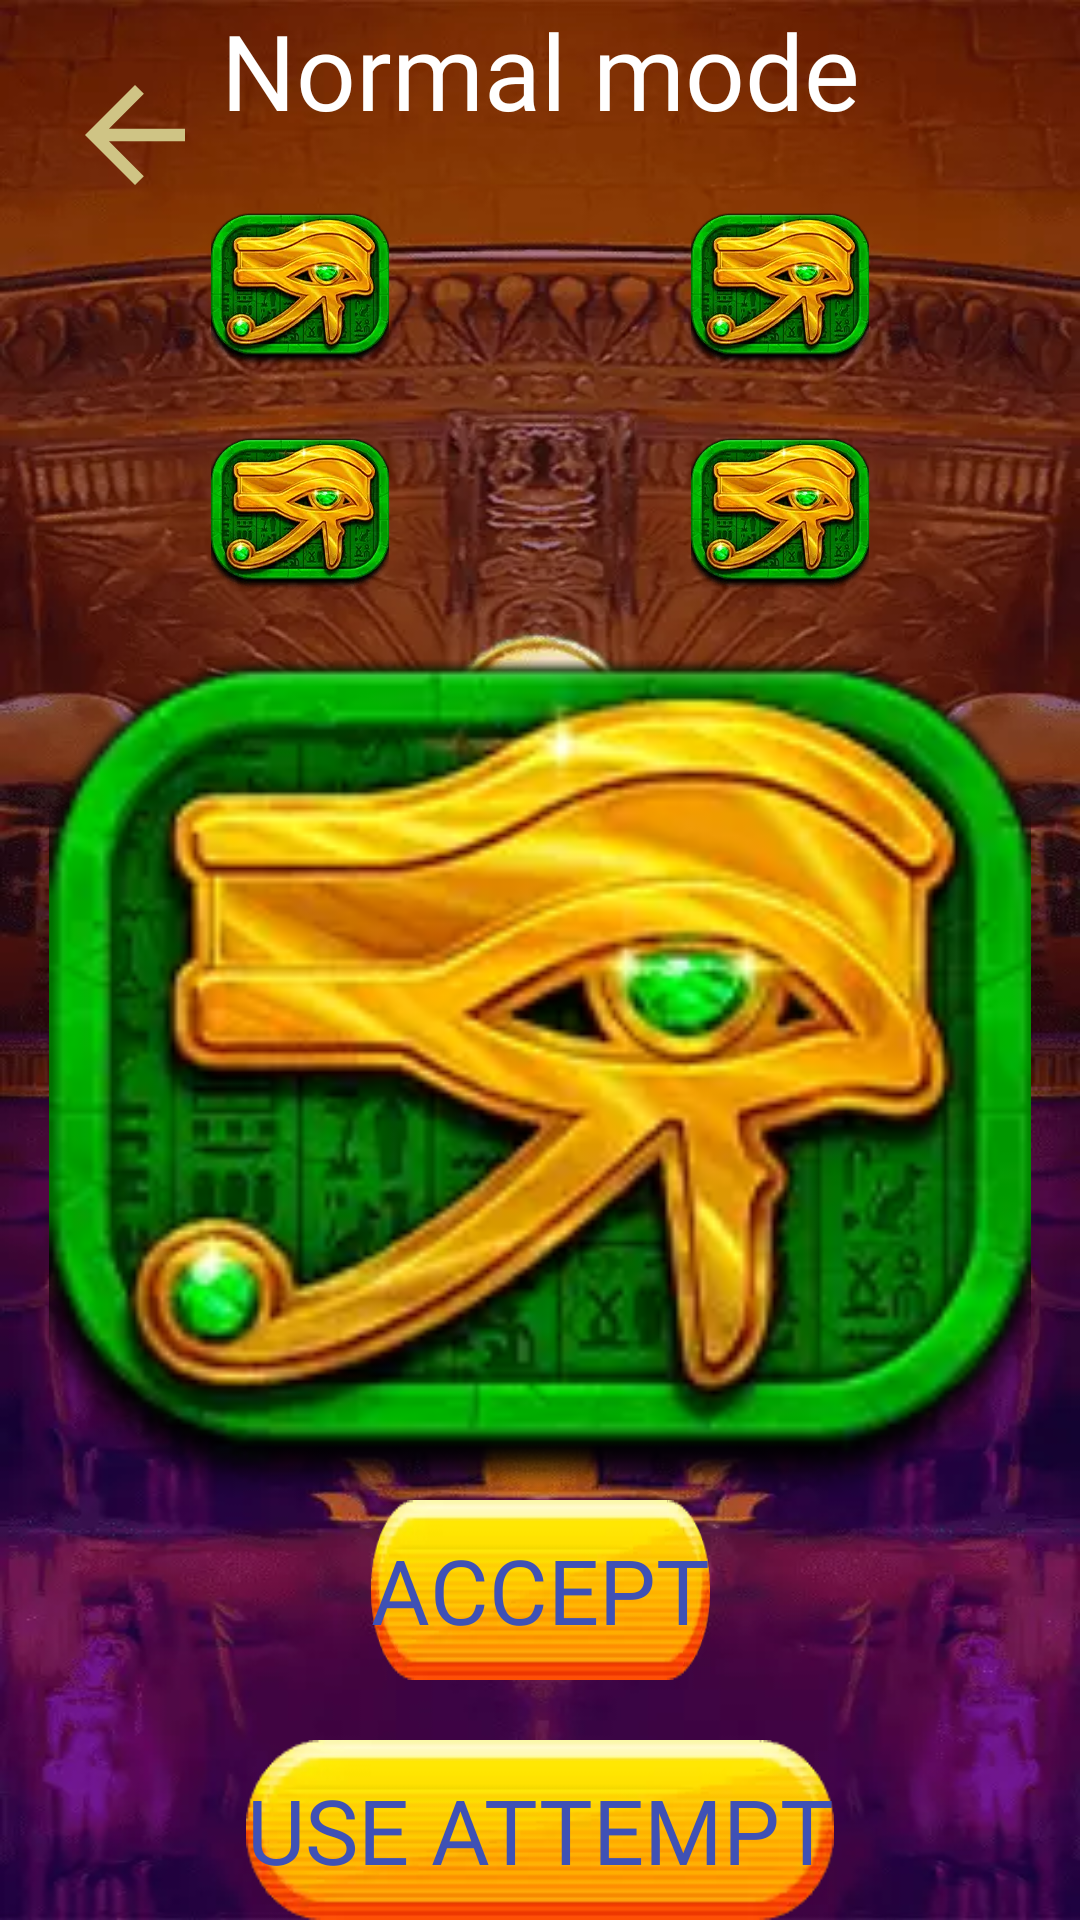

Locate icon controls on the screen. Image size 1080 × 1920, boxes as (x1, y1, x2, y2).
back: (60, 60, 210, 209)
